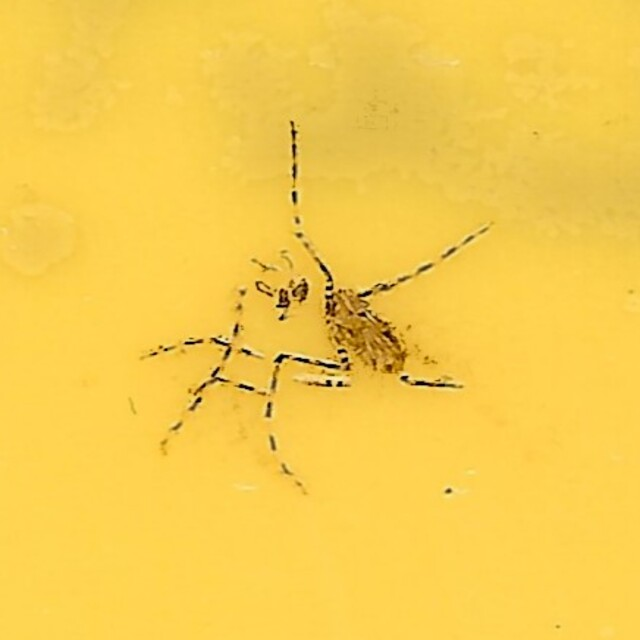Nematocera: (147, 132, 493, 508)
